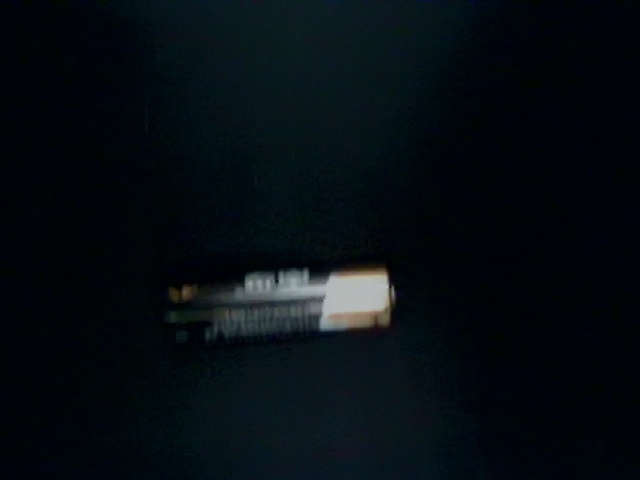QTLJ: (72, 416, 238, 480)
